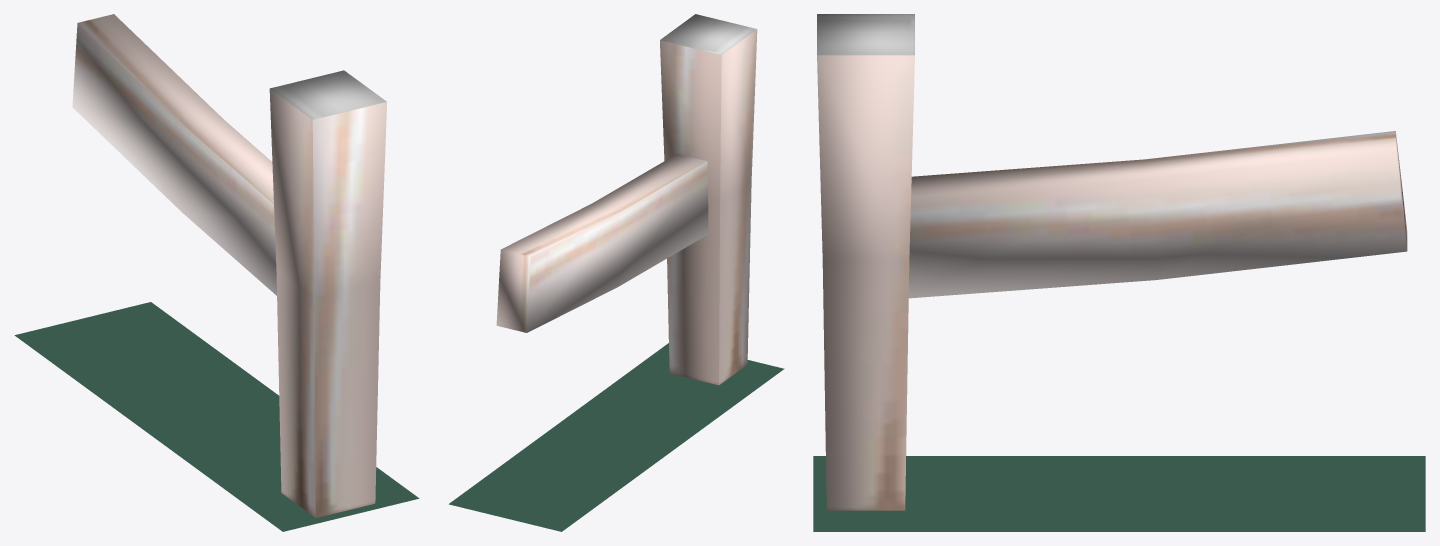
The model's file is FarmFence02.fbx.
The picture shows the model from 3 angles, left to right: view 1: azimuth 30°, elevation 25°; view 2: azimuth 150°, elevation 25°; view 3: azimuth 270°, elevation 25°; orthographic projection. The views are drawn at different scales.
Parts seen in each view (by area): view 1: FarmFence02, FarmFenceShadow; view 2: FarmFence02, FarmFenceShadow; view 3: FarmFence02, FarmFenceShadow.
Boxes of the visible parts, x1,y1,x2,y2 form: FarmFence02: (72, 14, 386, 517); FarmFenceShadow: (14, 302, 419, 531); FarmFence02: (496, 14, 757, 385); FarmFenceShadow: (449, 343, 784, 531); FarmFence02: (817, 14, 1407, 510); FarmFenceShadow: (813, 456, 1425, 531).
Size of the model in its own units: 0.401 by 1.14 by 1.36.
Materials: 2 (1 with a texture image).
